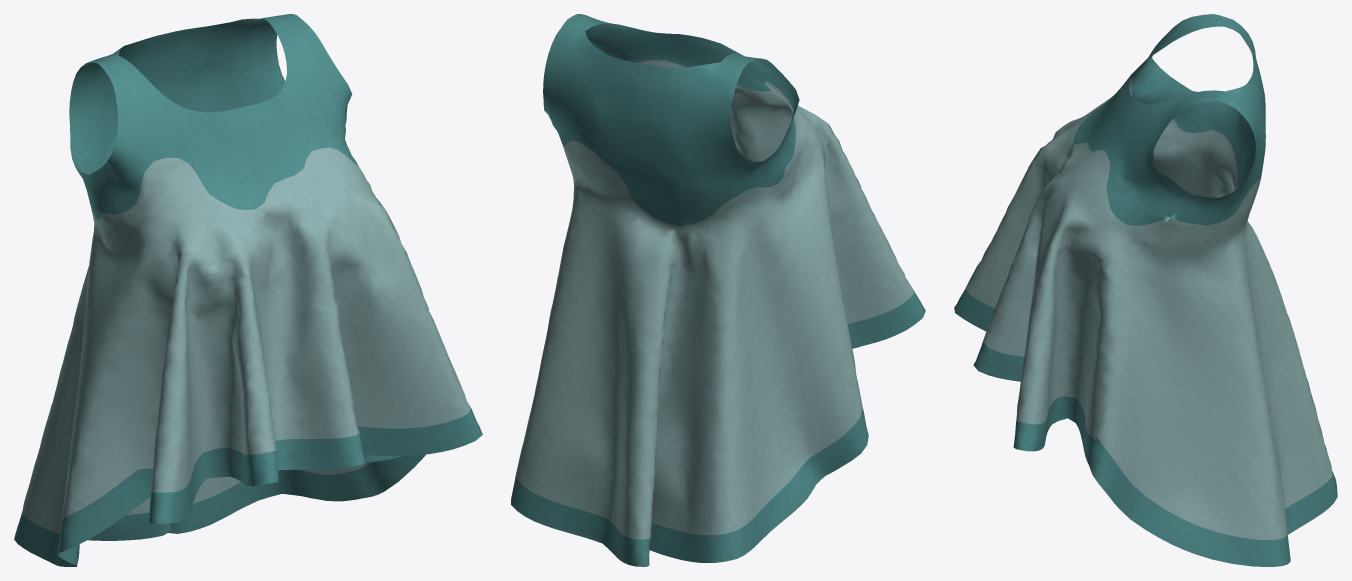
3 renders of one model, left to right at view 1: azimuth 30°, elevation 25°; view 2: azimuth 150°, elevation 25°; view 3: azimuth 270°, elevation 25°, orthographic. The views are drawn at different scales.
Visible parts, largest first — view 1: BodyTop; view 2: BodyTop; view 3: BodyTop.
Boxes of the visible parts, <box> form: BodyTop: <box>14,14,482,566</box>; BodyTop: <box>511,14,925,566</box>; BodyTop: <box>954,14,1337,566</box>.
Size of the model in its own units: 0.3395 by 0.4755 by 0.3517.
6 materials, 6 textured.
